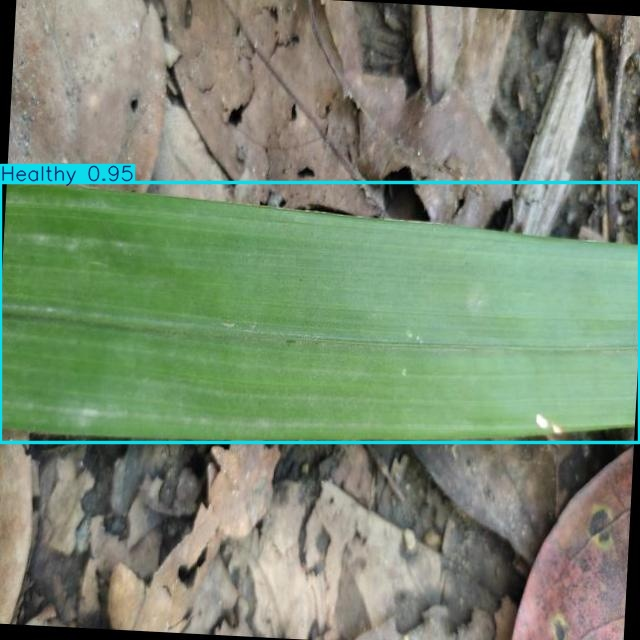Healthy: (0, 182, 640, 443)
